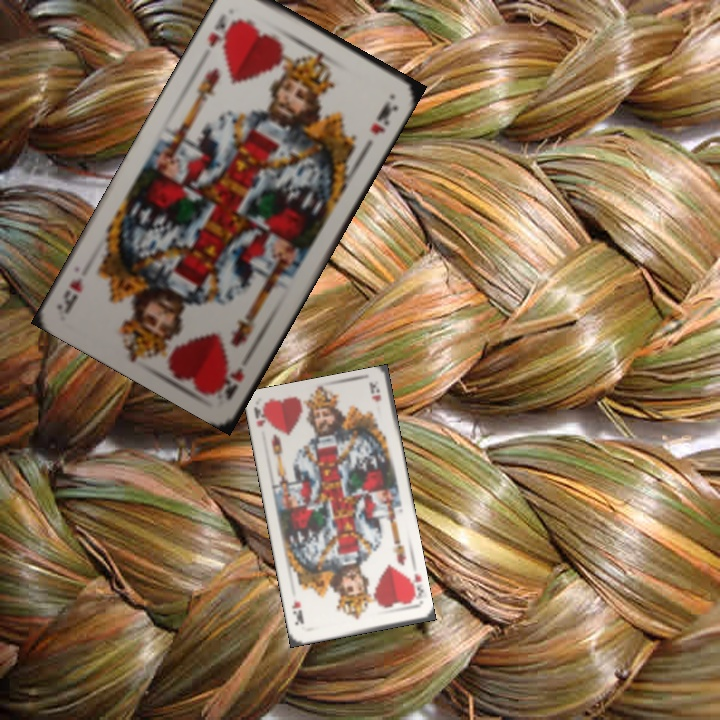HK: (204, 9, 242, 51), (214, 363, 247, 403), (403, 569, 426, 607), (250, 403, 271, 429)
